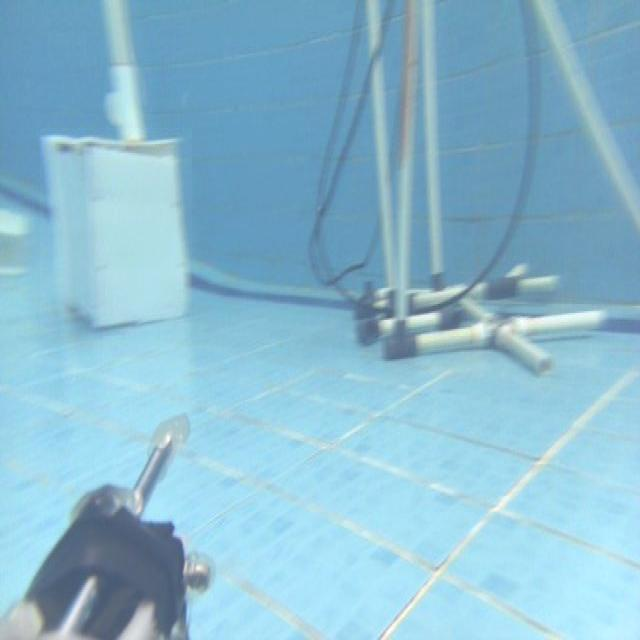Cube: (40, 128, 192, 331)
